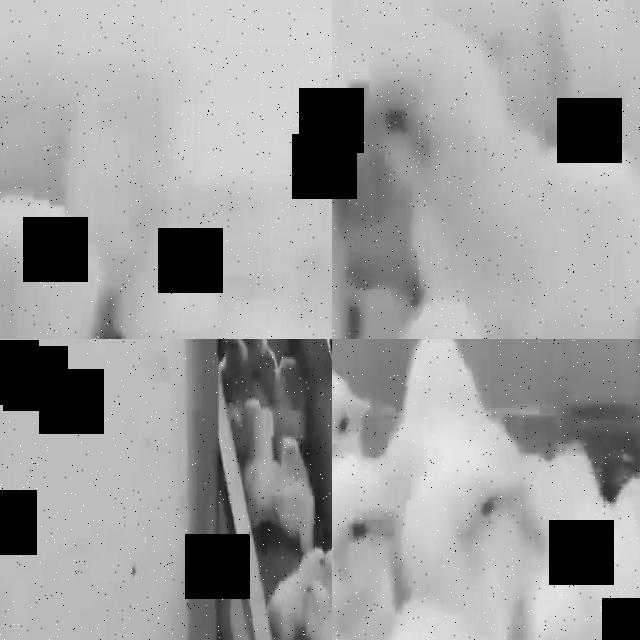chicks: (369, 7, 484, 178), (81, 49, 172, 228), (408, 440, 529, 570), (503, 0, 612, 125), (332, 471, 407, 593), (0, 234, 73, 339), (299, 88, 332, 246), (408, 339, 474, 416), (590, 550, 640, 640), (332, 382, 385, 465), (0, 65, 23, 195), (252, 408, 274, 458), (222, 339, 250, 374), (302, 578, 328, 615), (282, 434, 304, 475), (307, 551, 327, 581), (269, 339, 292, 364), (327, 545, 332, 573)
